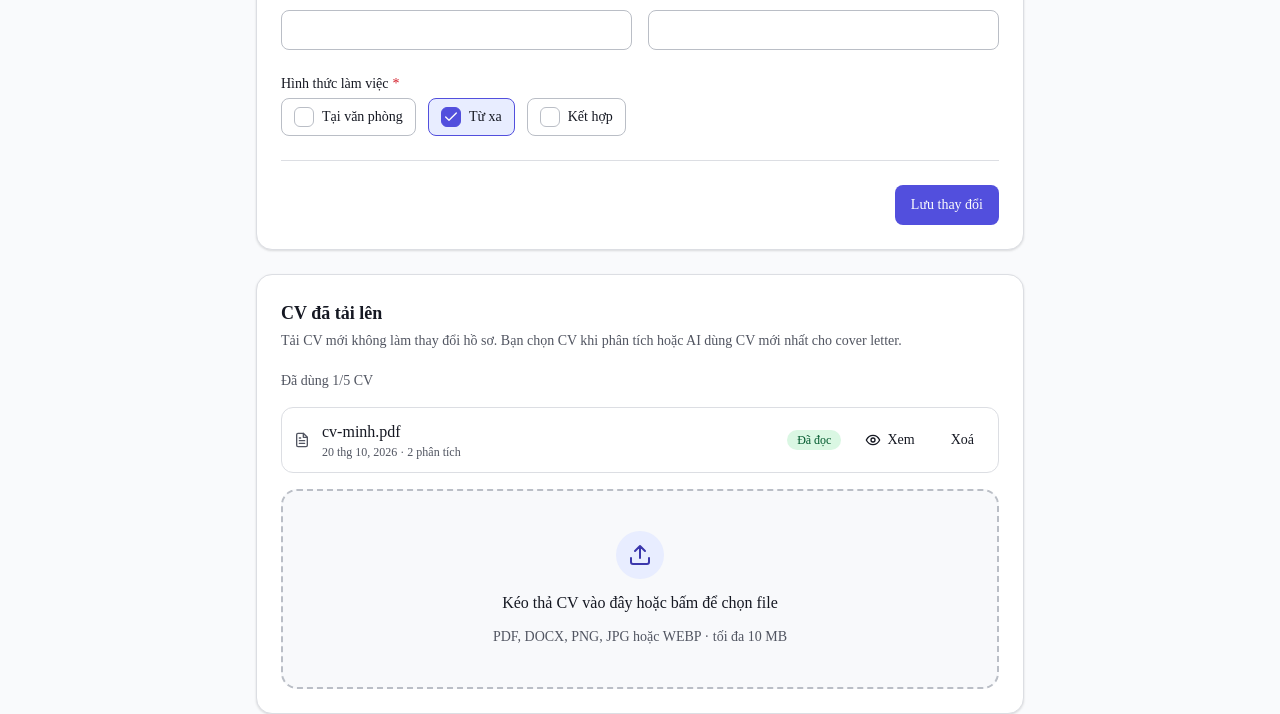
Test case: ProfileView › deletes a CV after confirming, warning about its analyses
(page scrolled)
expect the text "cv-minh.pdf" is shown: met, box [322,423,401,440]
expect the text "20 thg 10, 2026 · 2 phân tích" is shown: met, box [322,445,461,459]
Click the button with aria-label "Xoá cv-minh.pdf" at (962, 440), box [939,424,986,456]
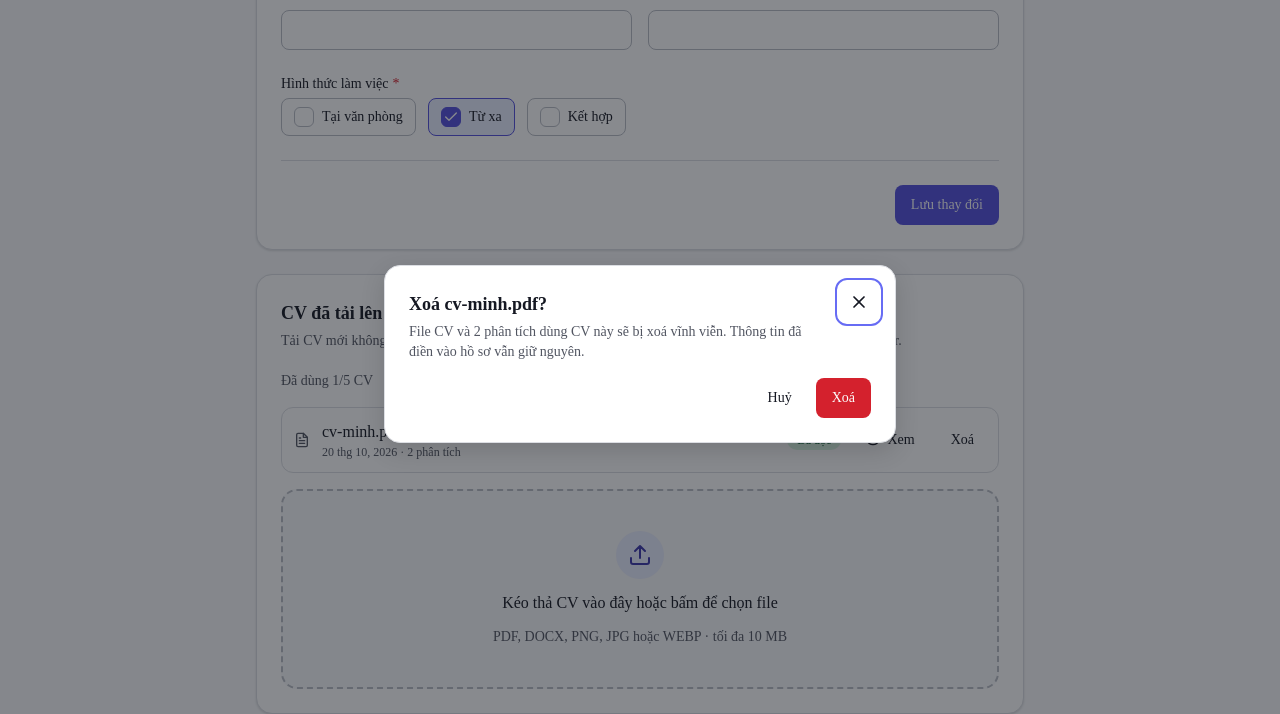
expect the dialog "Xoá cv-minh.pdf?" shows "2 phân tích dùng CV này": met, box [409,324,801,359]
Click the button "Xoá" at (843, 398), box [816,378,871,418]
(page scrolled)
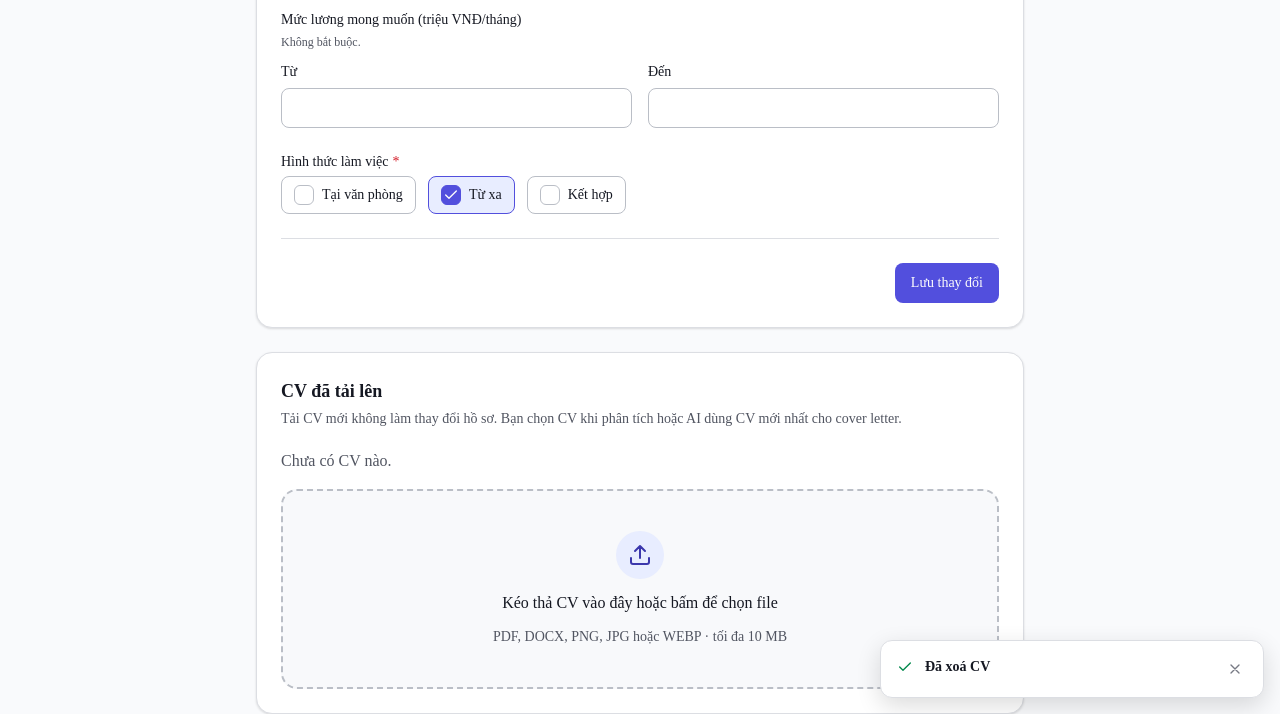
expect the text "Đã xoá CV" is shown: met, box [925,659,990,674]
expect the text "Chưa có CV nào." is shown: met, box [281,452,392,469]
